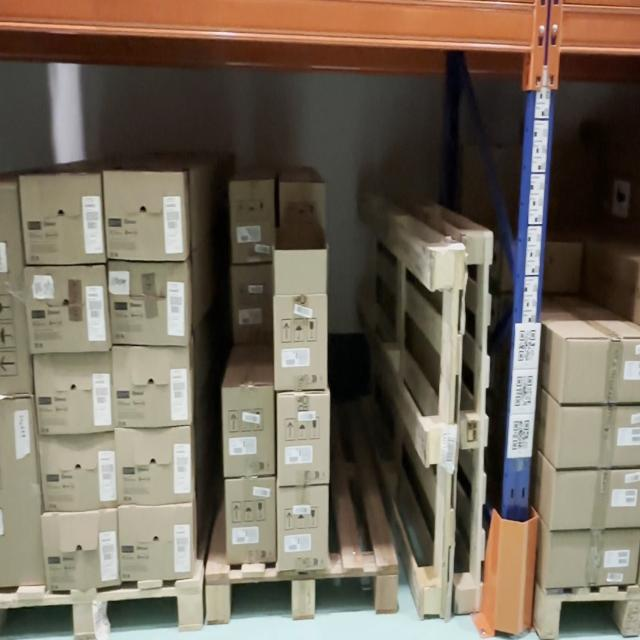box: (0, 398, 44, 588), (0, 184, 32, 395), (108, 173, 183, 259), (26, 271, 108, 349), (27, 176, 100, 263), (109, 263, 186, 344), (118, 426, 189, 506), (115, 350, 188, 427), (546, 533, 640, 592), (551, 471, 640, 532), (38, 356, 113, 428), (557, 407, 640, 469), (562, 340, 640, 405), (46, 436, 114, 510), (45, 518, 117, 584), (120, 510, 190, 576), (276, 299, 326, 390), (278, 394, 328, 482), (223, 393, 273, 472), (228, 479, 274, 563), (280, 487, 327, 568), (231, 180, 274, 264), (232, 265, 273, 345)
